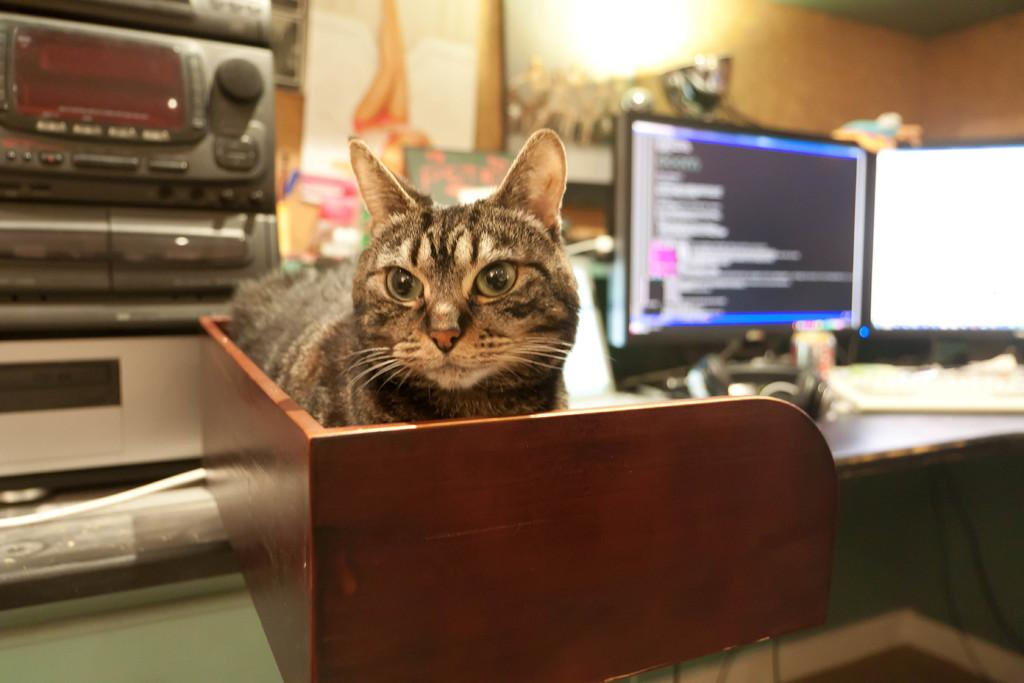Computer-monitor: (607, 112, 875, 386)
